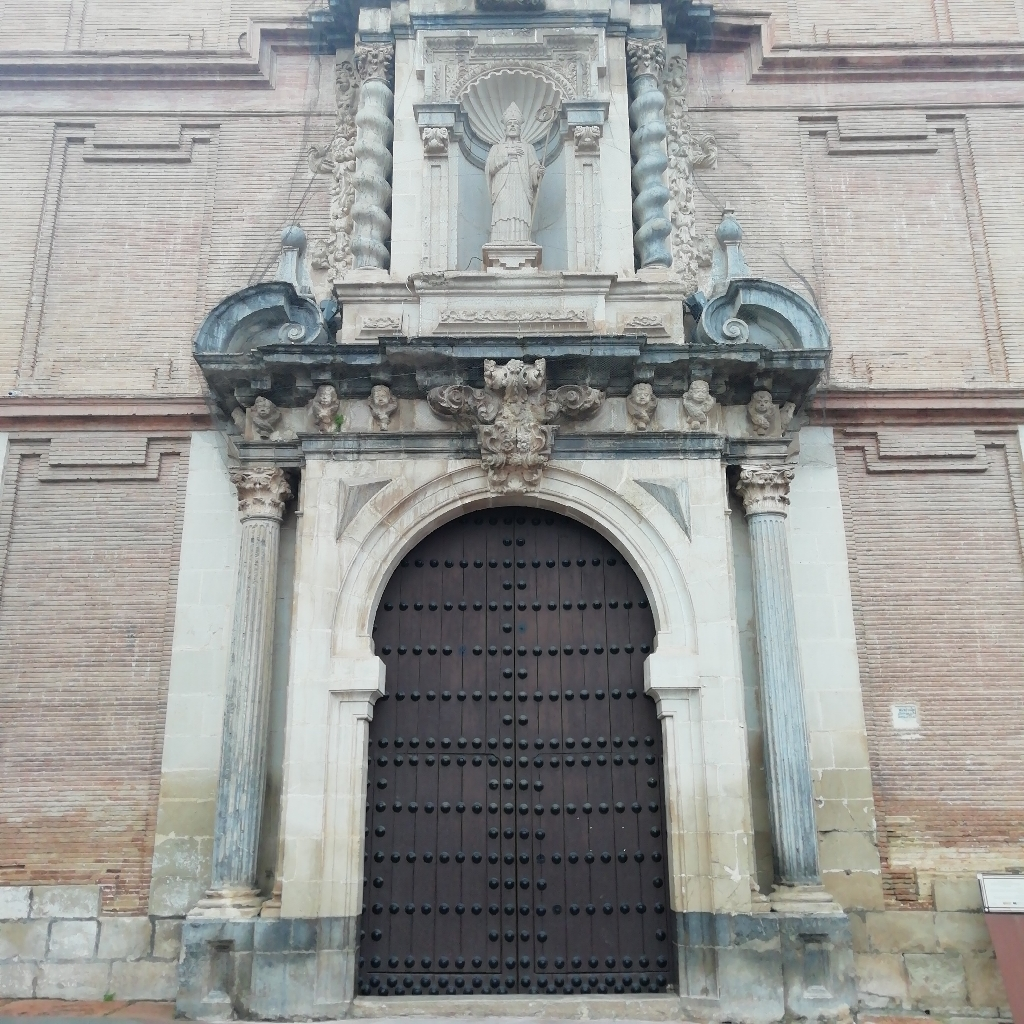arco-medio-punto: (357, 481, 676, 699)
columna-salomonica: (628, 52, 679, 284), (344, 70, 394, 282)
fronton-partido: (190, 264, 833, 395)
